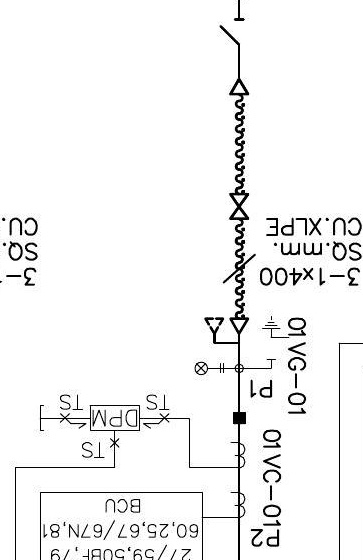22_gs: (260, 316, 290, 362)
22_ll: (194, 361, 225, 376)
DPM: (88, 404, 142, 432)
terminator_single: (227, 78, 250, 97)
terminator_splicing_kits: (229, 193, 250, 221)
terminator_w_future: (203, 316, 250, 346)
